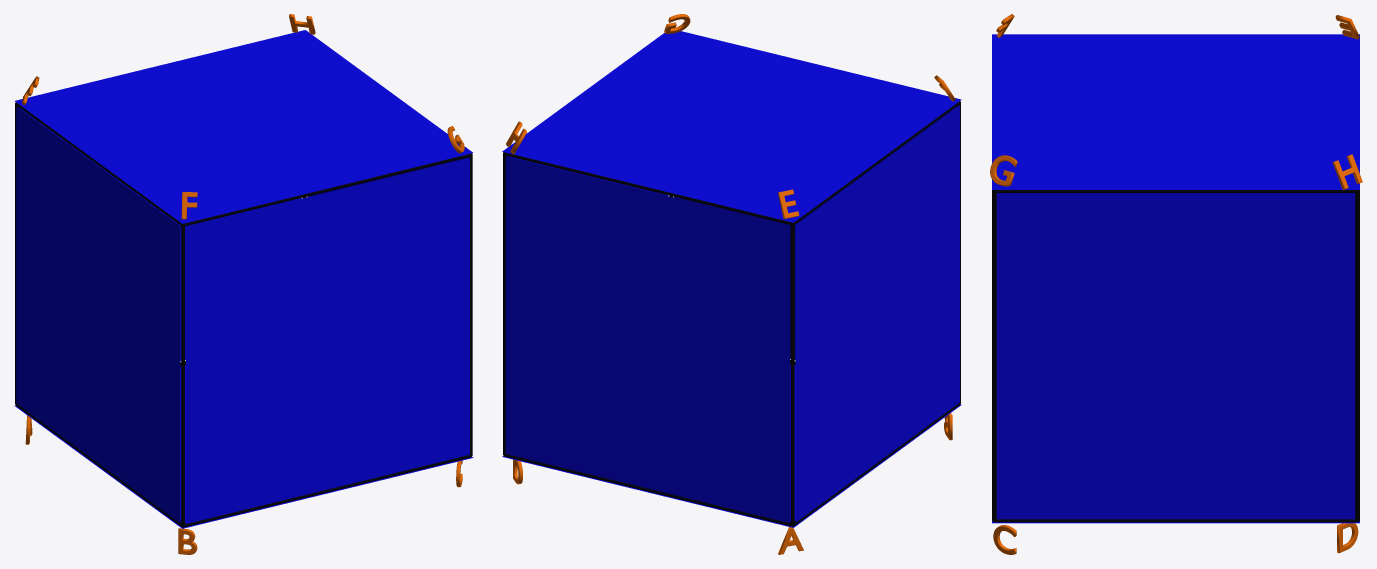
3 renders of one model, left to right at view 1: azimuth 30°, elevation 25°; view 2: azimuth 150°, elevation 25°; view 3: azimuth 270°, elevation 25°, orthographic. The views are drawn at different scales.
Visible parts, largest first — view 1: Cube.001, Cube.003, Cube, Kubus ABCD.EFGH (3), Cube.002; view 2: Cube.002, Cube.003, Cube, Kubus ABCD.EFGH (3), Cube.001; view 3: Cube.006, Cube, Kubus ABCD.EFGH (3), G, H.
Part boxes in pixels (bbox=[...]): Cube.001: bbox=[186, 158, 469, 523]; Cube.003: bbox=[16, 106, 180, 522]; Cube: bbox=[14, 30, 473, 528]; Kubus ABCD.EFGH (3): bbox=[15, 102, 472, 527]; Cube.002: bbox=[19, 107, 301, 361]; Cube.002: bbox=[505, 156, 789, 523]; Cube.003: bbox=[795, 105, 959, 522]; Cube: bbox=[502, 31, 961, 527]; Kubus ABCD.EFGH (3): bbox=[503, 101, 960, 526]; Cube.001: bbox=[674, 106, 956, 360]; Cube.006: bbox=[996, 194, 1355, 519]; Cube: bbox=[992, 34, 1359, 523]; Kubus ABCD.EFGH (3): bbox=[992, 190, 1359, 522]; G: bbox=[990, 155, 1017, 186]; H: bbox=[1332, 154, 1362, 189].
Size of the model in its own units: 0.3791 by 0.4422 by 0.38.
